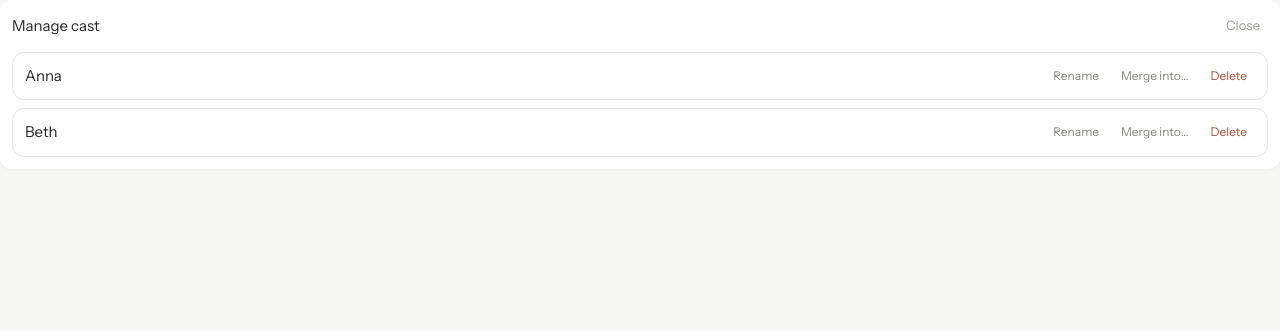
Test: CastPanel › rolls back project and ledger on a failed merge
Click the button with test id "cast-merge-char-a" at (1155, 76), box left=1113, top=65, right=1196, bottom=87
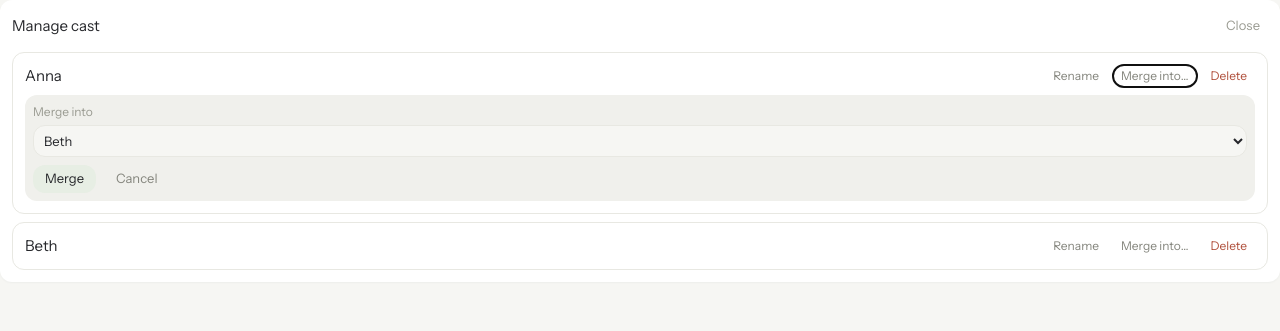
Click the button "Merge" at (64, 179), box left=33, top=165, right=96, bottom=192
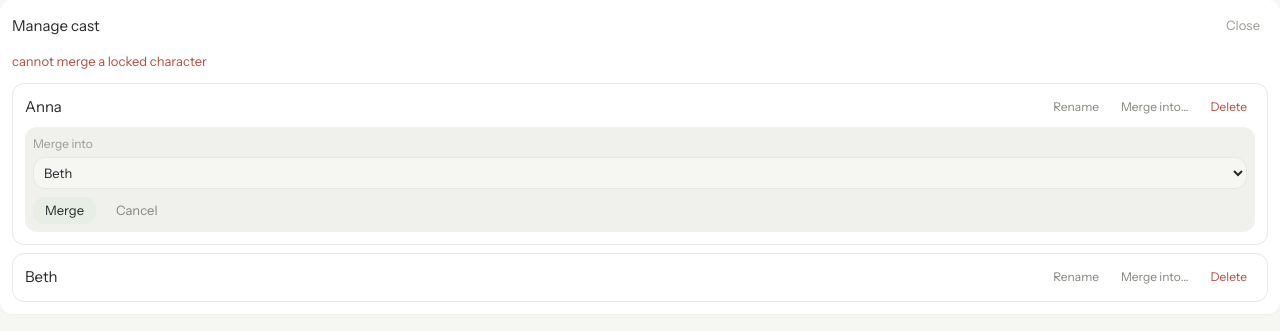
Expected: the message reads "cannot merge a locked character", left=12, top=52, right=207, bottom=68
